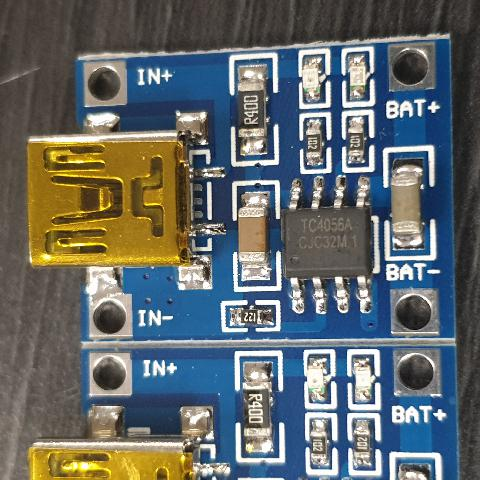batt+: (396, 42, 440, 90), (404, 348, 440, 395)
batt-: (390, 294, 434, 331)
charge: (296, 50, 340, 103), (306, 352, 336, 407)
done: (340, 42, 380, 100), (342, 352, 376, 410)
rprog: (228, 304, 290, 330)
usb: (32, 138, 178, 264)
